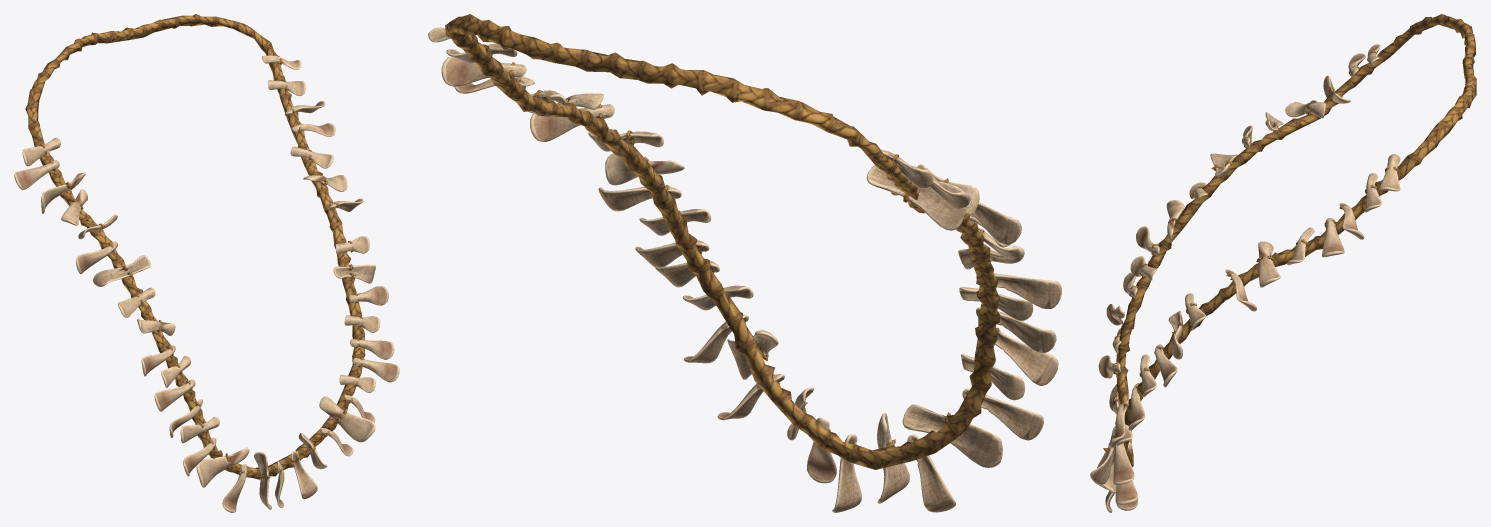
The model's file is SM_CollarConchasPlanas.glb.
3 renders of one model, left to right at view 1: azimuth 30°, elevation 25°; view 2: azimuth 150°, elevation 25°; view 3: azimuth 270°, elevation 25°, orthographic. The views are drawn at different scales.
Parts seen in each view (by area): view 1: CC02_Cuerda_Low, CC02_Position.022_ignor, CC02_Position.019_ignor, CC02_Position.017_ignor, CC02_Position.003_ignor, CC02_Position.034_ignor, CC02_Position.021_ignor, CC02_Position.039_ignor, CC02_Position.035_ignor, CC02_Position.027_ignor, CC02_Position.020_ignor, CC02_Position.025_ignor (+13 smaller); view 2: CC02_Cuerda_Low, CC02_Position.019_ignor, CC02_Position.016_ignor, CC02_Position.028_ignor, CC02_Position.029_ignor, CC02_Position.026_ignor, CC02_Position.030_ignor, CC02_Position.024_ignor, CC02_Position.037_ignor, CC02_Position.020_ignor, CC02_Position.027_ignor, CC02_Position.031_ignor (+11 smaller); view 3: CC02_Cuerda_Low, CC02_Position.015_ignor, CC02_Position.033_ignor, CC02_Position.038_ignor, CC02_Position.018_ignor, CC02_Position.005_ignor, CC02_Position.036_ignor, CC02_Position.021_ignor, CC02_Position.022_ignor, CC02_Position.004_ignor, CC02_Position.035_ignor, CC02_Position.011_ignor.
Part boxes in pixels (bbox=[...]): CC02_Cuerda_Low: bbox=[25, 14, 365, 479]; CC02_Position.022_ignor: bbox=[319, 396, 375, 442]; CC02_Position.019_ignor: bbox=[196, 447, 249, 487]; CC02_Position.017_ignor: bbox=[93, 255, 150, 286]; CC02_Position.003_ignor: bbox=[14, 160, 59, 189]; CC02_Position.034_ignor: bbox=[352, 357, 399, 382]; CC02_Position.021_ignor: bbox=[333, 264, 375, 283]; CC02_Position.039_ignor: bbox=[291, 451, 317, 499]; CC02_Position.035_ignor: bbox=[350, 338, 394, 359]; CC02_Position.027_ignor: bbox=[154, 379, 195, 411]; CC02_Position.020_ignor: bbox=[254, 452, 271, 509]; CC02_Position.025_ignor: bbox=[76, 241, 117, 274]; CC02_Cuerda_Low: bbox=[445, 14, 1000, 469]; CC02_Position.019_ignor: bbox=[902, 404, 1002, 467]; CC02_Position.016_ignor: bbox=[866, 165, 967, 230]; CC02_Position.028_ignor: bbox=[995, 327, 1058, 385]; CC02_Position.029_ignor: bbox=[962, 388, 1043, 440]; CC02_Position.026_ignor: bbox=[976, 273, 1061, 309]; CC02_Position.030_ignor: bbox=[907, 434, 955, 512]; CC02_Position.024_ignor: bbox=[441, 56, 526, 86]; CC02_Position.037_ignor: bbox=[530, 104, 614, 141]; CC02_Position.020_ignor: bbox=[877, 413, 909, 503]; CC02_Position.027_ignor: bbox=[976, 307, 1056, 353]; CC02_Position.031_ignor: bbox=[832, 434, 861, 512]; CC02_Cuerda_Low: bbox=[1116, 14, 1476, 467]; CC02_Position.015_ignor: bbox=[1256, 241, 1280, 287]; CC02_Position.033_ignor: bbox=[1113, 429, 1134, 485]; CC02_Position.038_ignor: bbox=[1322, 218, 1344, 257]; CC02_Position.018_ignor: bbox=[1285, 100, 1325, 118]; CC02_Position.005_ignor: bbox=[1379, 154, 1400, 191]; CC02_Position.036_ignor: bbox=[1154, 344, 1177, 387]; CC02_Position.021_ignor: bbox=[1168, 311, 1183, 359]; CC02_Position.022_ignor: bbox=[1090, 424, 1131, 484]; CC02_Position.004_ignor: bbox=[1364, 173, 1381, 212]; CC02_Position.035_ignor: bbox=[1128, 382, 1145, 430]; CC02_Position.011_ignor: bbox=[1139, 354, 1156, 397].
Bounding box in the file's own units: 0.2639 × 0.3083 × 0.2393.
1 material, 1 textured.
